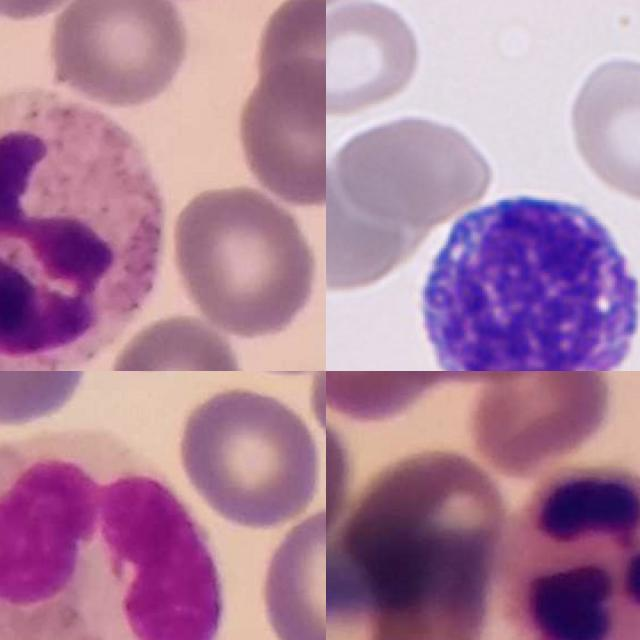Eosinophil: (0, 428, 229, 640)
Lymphocyte: (405, 182, 640, 371)
Neutrophil: (0, 88, 164, 371), (498, 466, 640, 640)
RBC: (331, 109, 500, 227), (326, 0, 428, 127), (565, 48, 640, 205)
